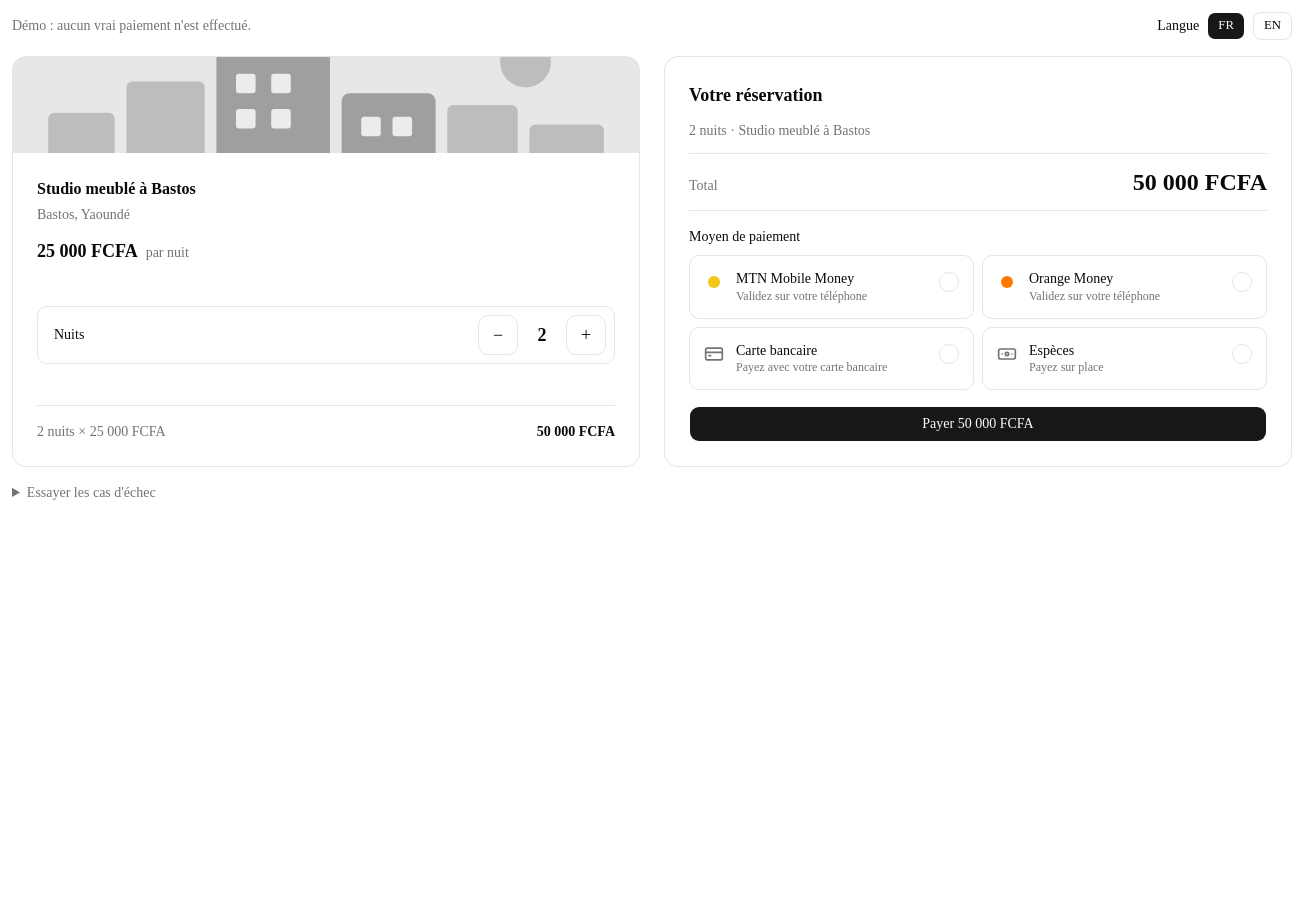
<BookingDemo /> paying › locks the order while a payment is in progress, and unlocks it afterwards
What coordinates should you click on to do the following:
click the radio button labelled "Espèces Payez sur place"
I would click on:
 (1052, 350)
Its box is [982,326,1267,390].
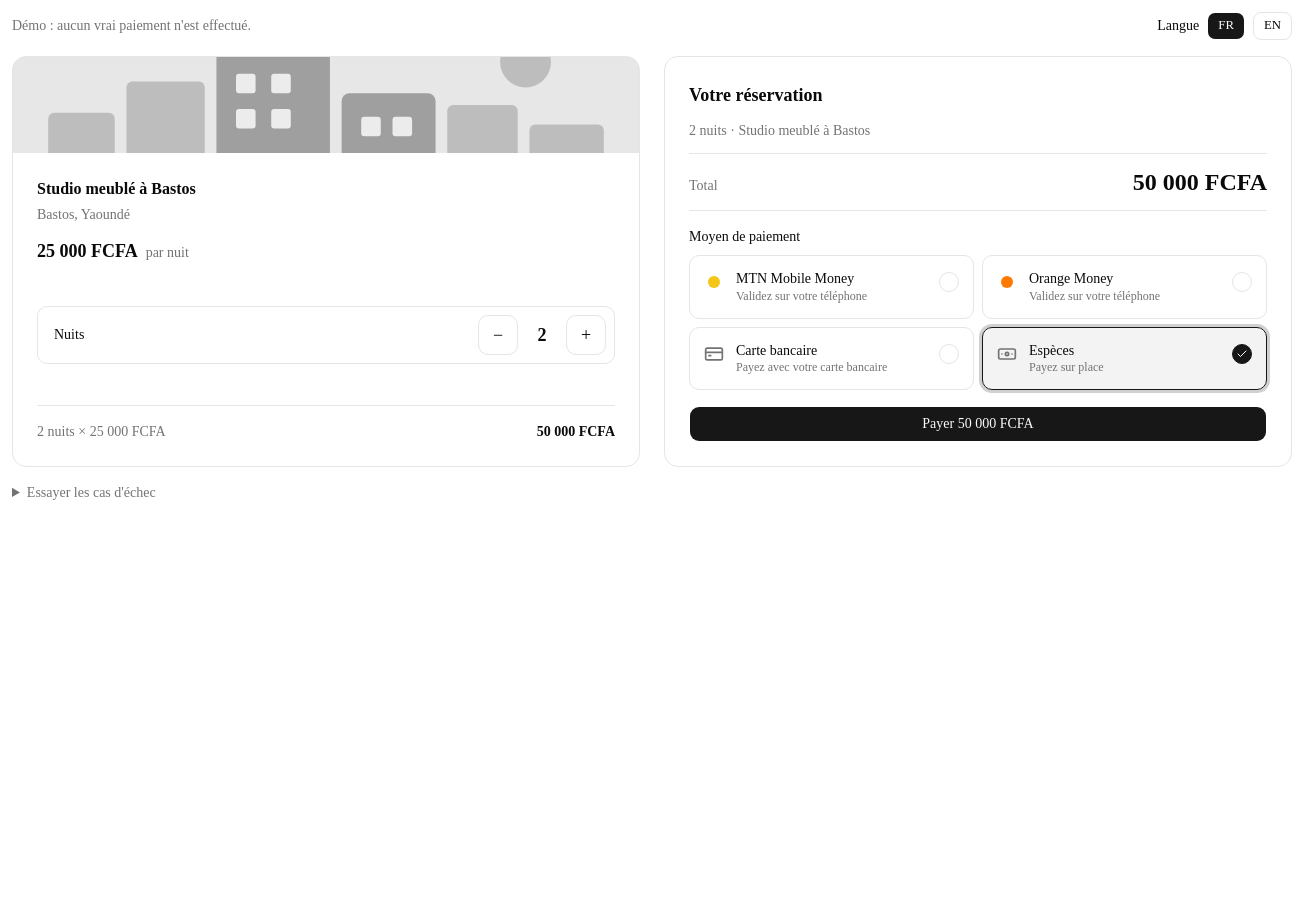
What coordinates should you click on to do the following:
click the button "Payer 50 000 FCFA"
I would click on:
 (978, 424)
Its box is [689,406,1267,442].
Wait 600 ms
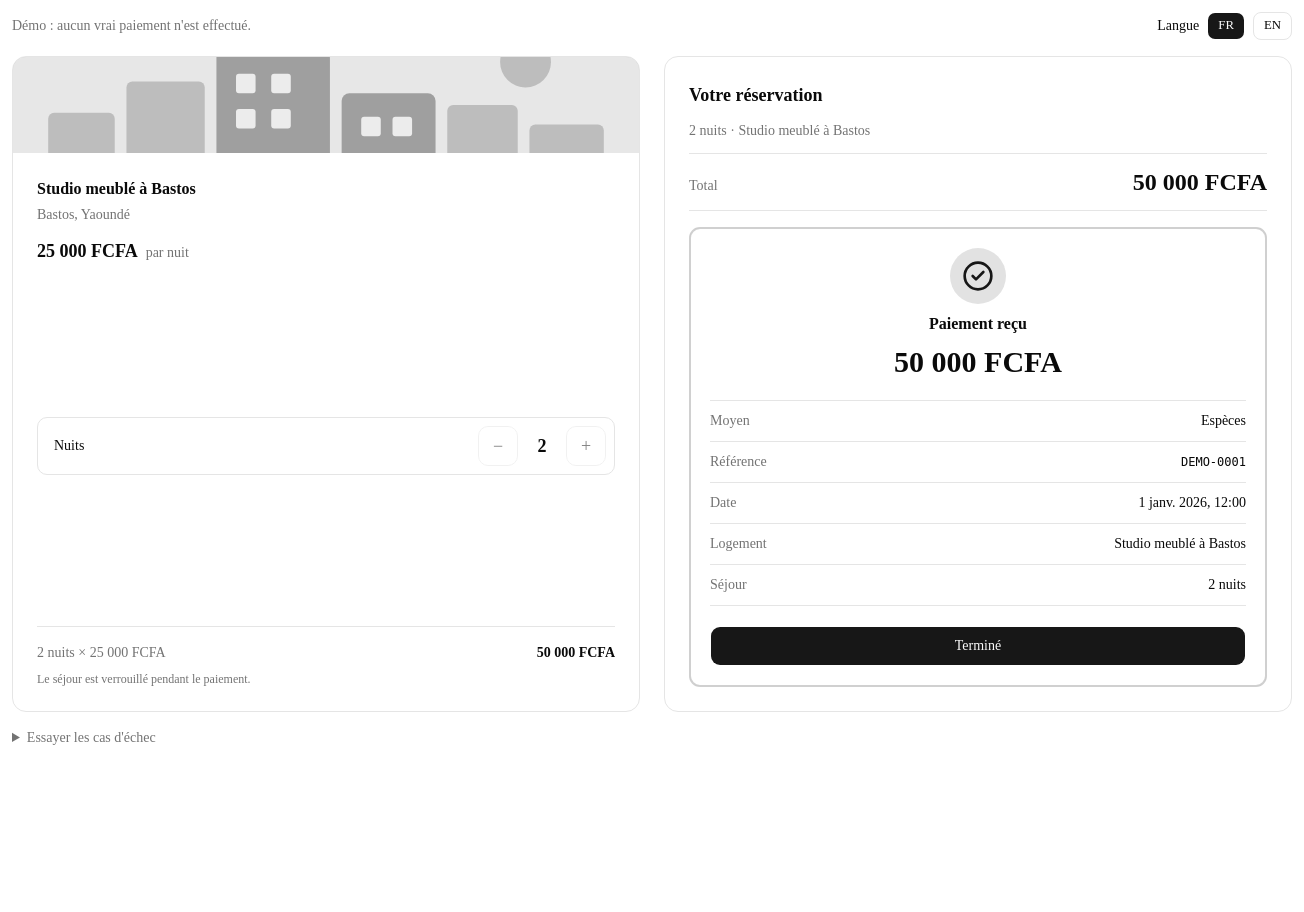
Expected: the button "−" is disabled, [478,426,518,466]
Now the text "Le séjour est verrouillé pendant le paiement." is shown, box [37,672,251,686]
Now the button "+" is disabled, box [566,426,606,466]
What coordinates should you click on to do the following:
click the button "Terminé"
I would click on:
 (978, 646)
Its box is [710,626,1246,666].
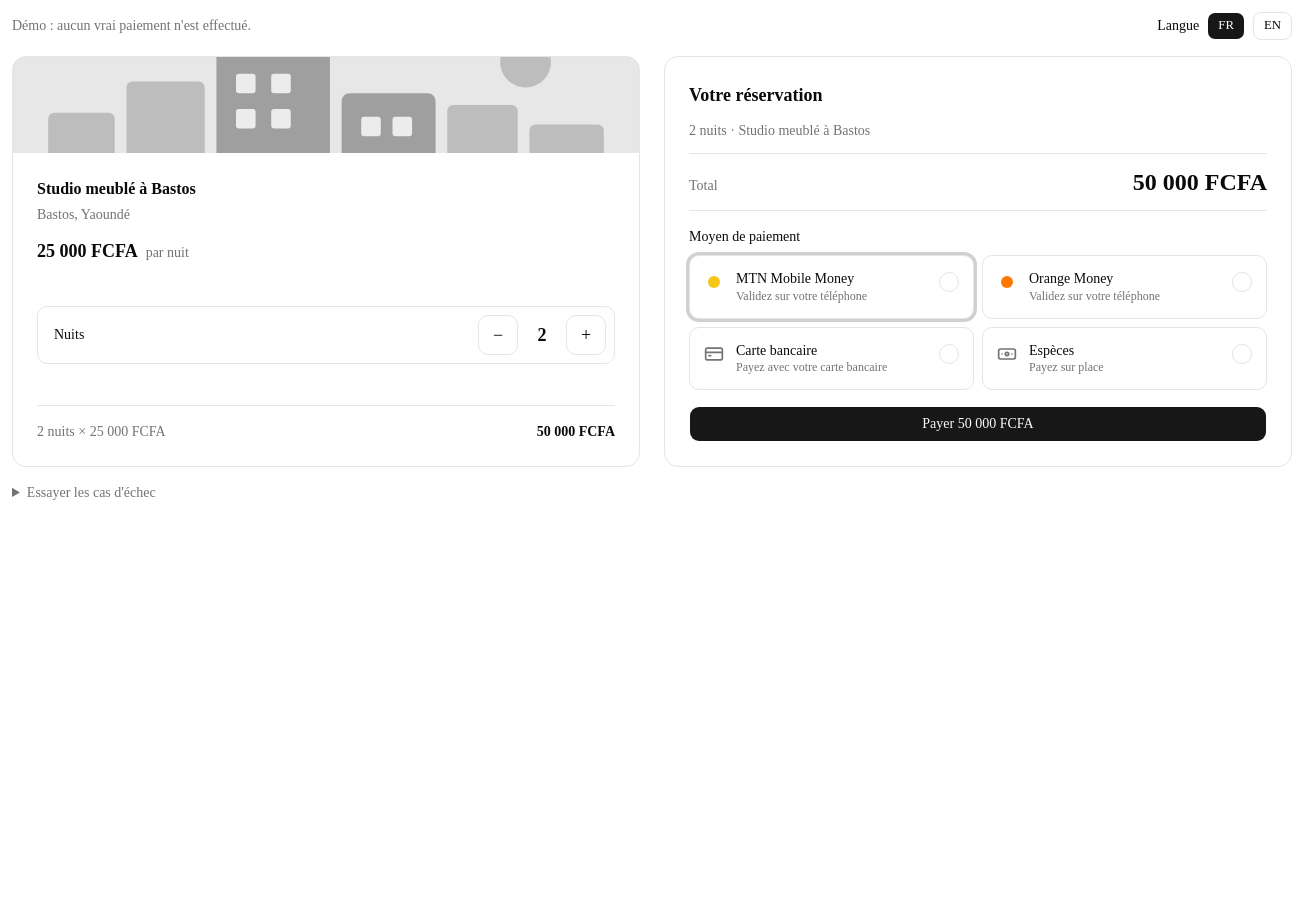
Now the button "+" is enabled, box [566,315,606,355]
Now the text "Le séjour est verrouillé pendant le paiement." is gone
